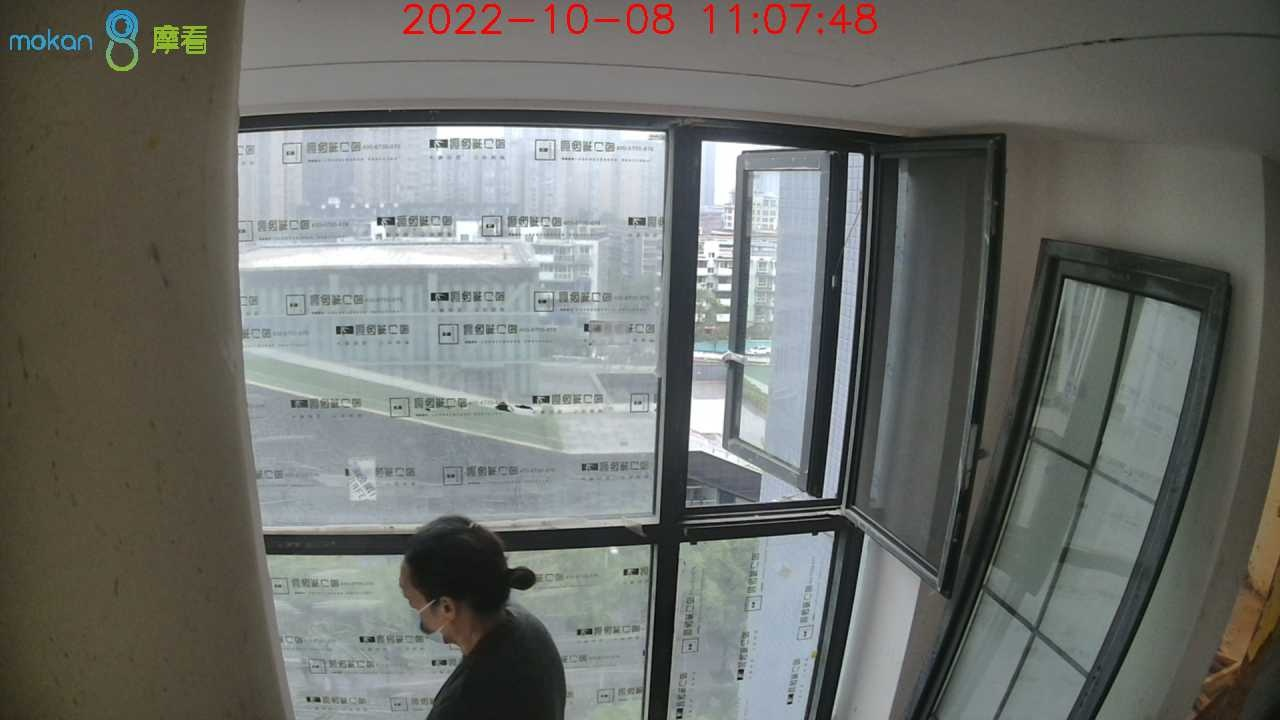people: (402, 515, 570, 720)
window: (237, 111, 863, 720)
